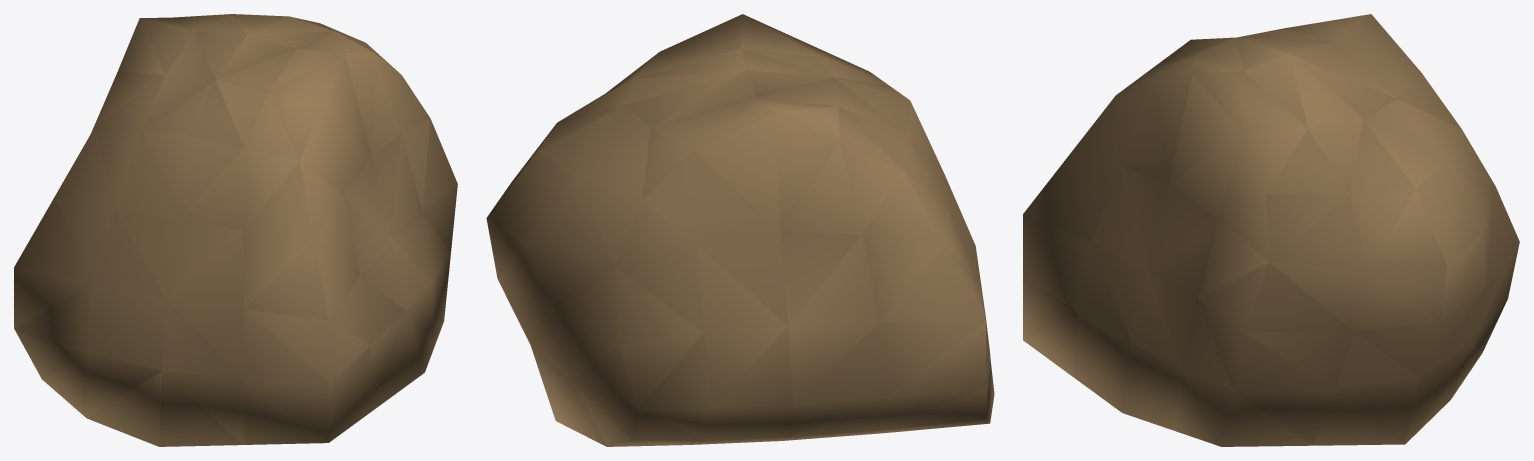
The model's file is SandChunk.002.glb.
The picture shows the model from 3 angles, left to right: view 1: azimuth 30°, elevation 25°; view 2: azimuth 150°, elevation 25°; view 3: azimuth 270°, elevation 25°; orthographic projection. The views are drawn at different scales.
Visible parts, largest first — view 1: SandChunk.002; view 2: SandChunk.002; view 3: SandChunk.002.
Boxes of the visible parts, x1,y1,x2,y2 form: SandChunk.002: [14, 14, 457, 446]; SandChunk.002: [486, 14, 994, 446]; SandChunk.002: [1023, 14, 1519, 446].
Bounding box in the file's own units: 7.29 × 5.4 × 7.27.
